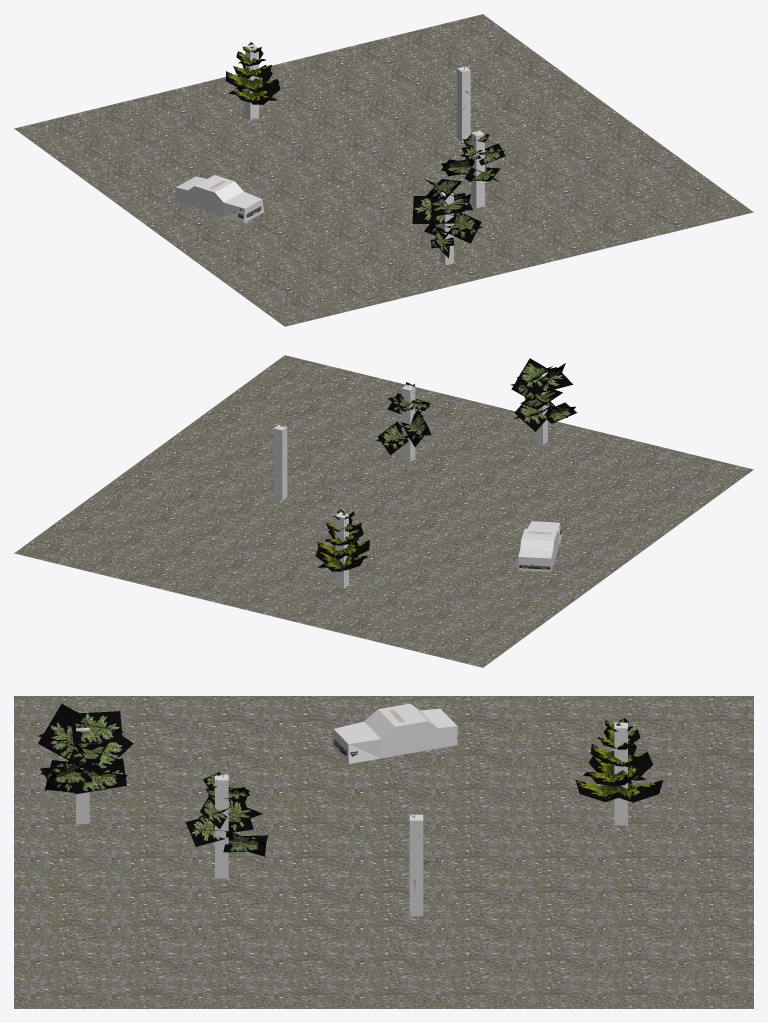
The picture shows the model from 3 angles, top to bottom: view 1: azimuth 30°, elevation 25°; view 2: azimuth 150°, elevation 25°; view 3: azimuth 270°, elevation 25°; orthographic projection. The views are drawn at different scales.
Visible parts, largest first — view 1: Plane, Arbol3, Cube.004, Arbol4, Arbol, Cube.002, Cube.003, Cube, Cube.001; view 2: Plane, Arbol3, Arbol4, Cube.004, Arbol, Cube.002, Cube.003, Cube.001; view 3: Plane, Arbol3, Cube.004, Arbol4, Arbol, Cube.002, Cube.003, Cube.001.
Boxes of the visible parts, <box> form: Plane: <box>14,14,753,326</box>; Arbol3: <box>412,179,482,258</box>; Cube.004: <box>175,175,264,223</box>; Arbol4: <box>225,42,280,120</box>; Arbol: <box>441,130,505,181</box>; Cube.002: <box>457,66,470,141</box>; Cube.003: <box>471,130,484,208</box>; Cube: <box>440,192,453,265</box>; Cube.001: <box>245,44,258,120</box>; Plane: <box>14,355,753,667</box>; Arbol3: <box>510,358,576,431</box>; Arbol4: <box>316,509,369,571</box>; Cube.004: <box>518,521,561,572</box>; Arbol: <box>376,382,431,455</box>; Cube.002: <box>273,424,287,500</box>; Cube.003: <box>401,385,415,462</box>; Cube.001: <box>335,512,348,588</box>; Plane: <box>14,696,753,1008</box>; Arbol3: <box>38,704,133,794</box>; Cube.004: <box>331,703,457,763</box>; Arbol4: <box>575,718,663,823</box>; Arbol: <box>185,771,267,856</box>; Cube.002: <box>409,814,423,916</box>; Cube.003: <box>215,774,228,878</box>; Cube.001: <box>614,722,627,825</box>.
Bounding box in the file's own units: 348 × 59.76 × 348.
6 materials, 6 textured.
